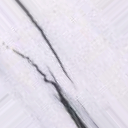crackTip: (1, 1, 89, 128)
